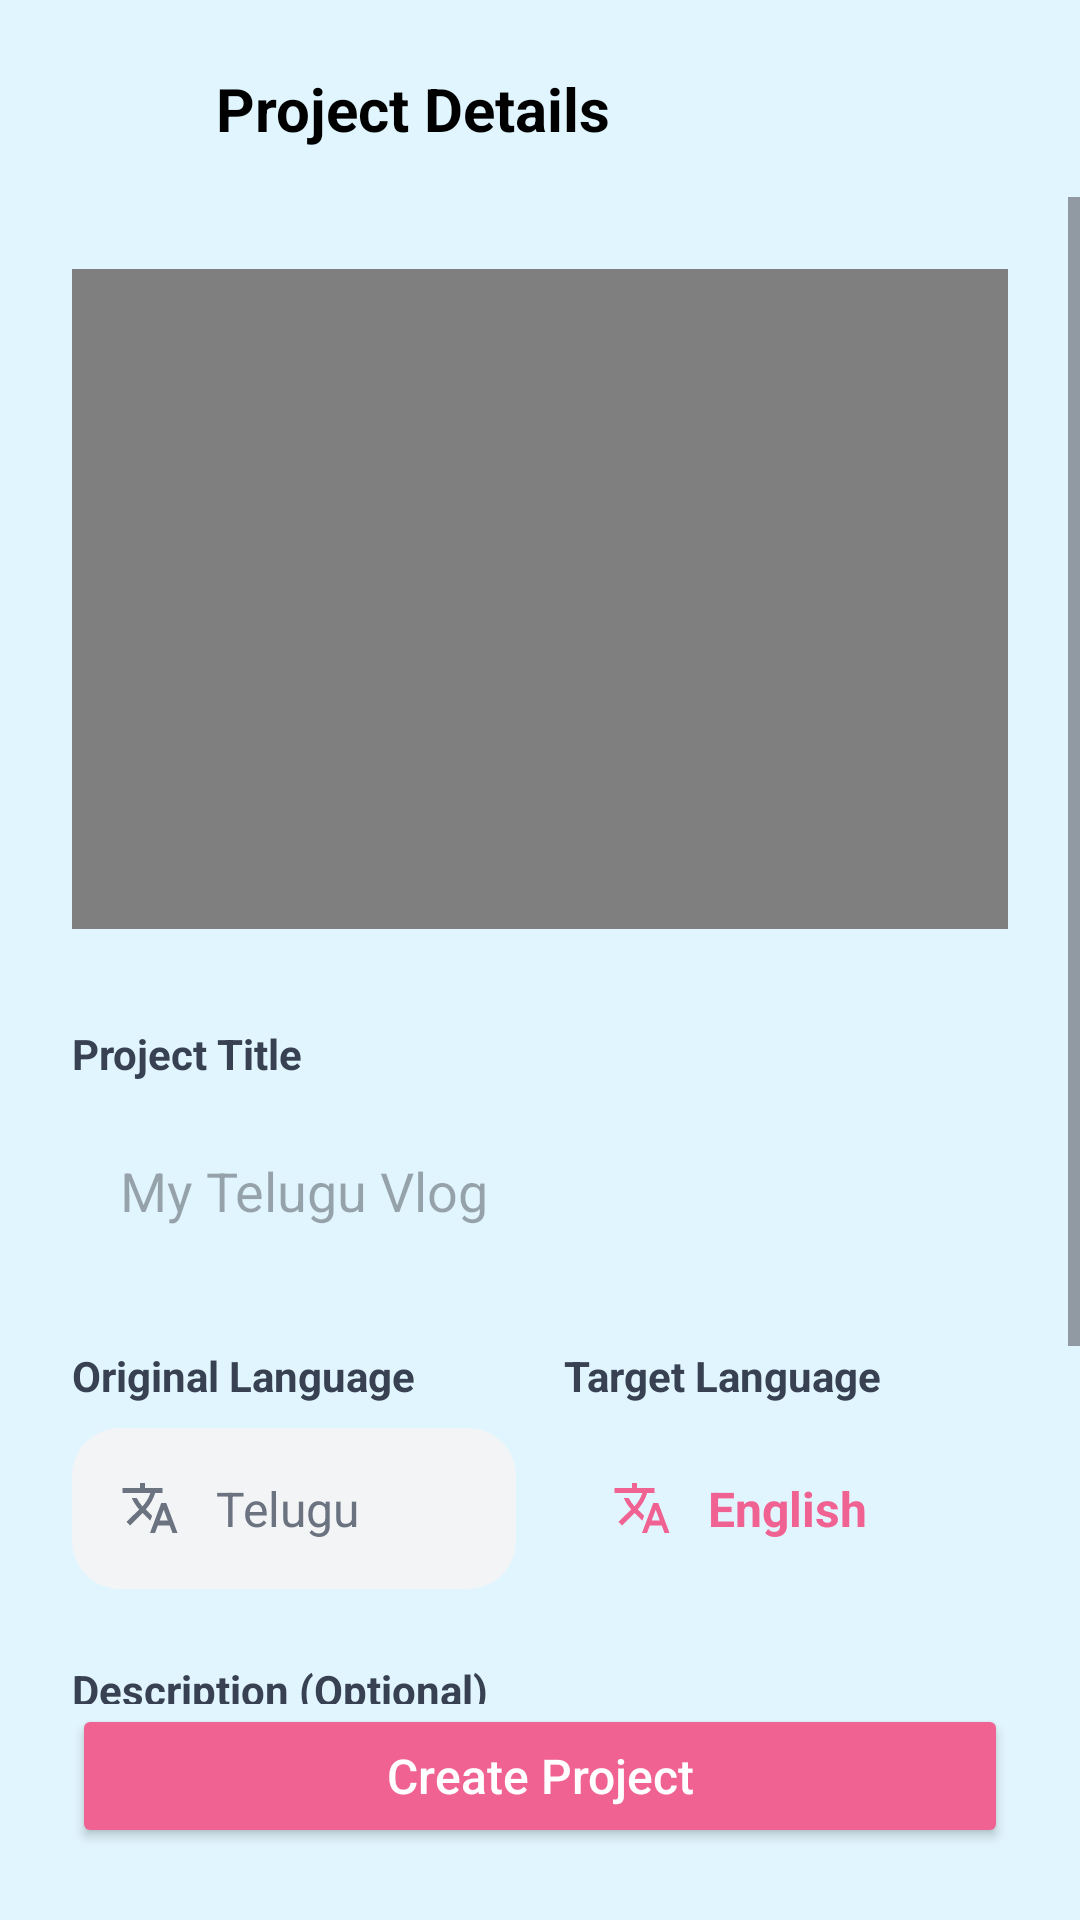

Named icons in this screenshot (1080w x 1920h) and their centers, (x,y):
translate: (150,1508), (642,1508)
